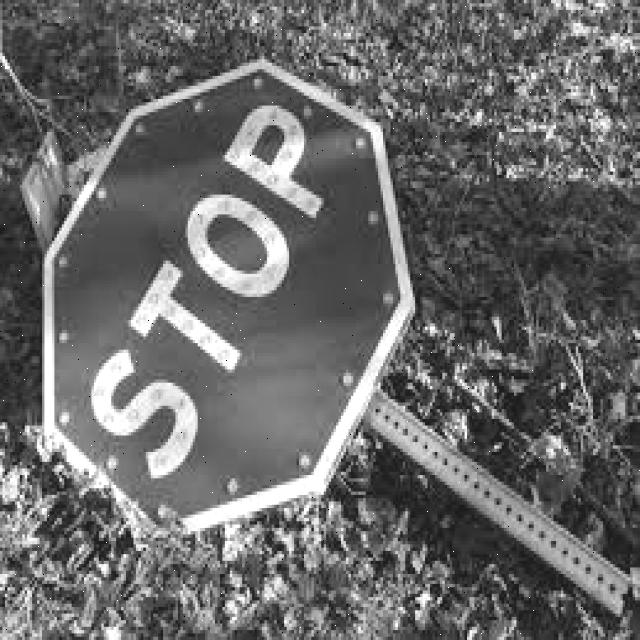stop sign: (46, 65, 422, 544)
